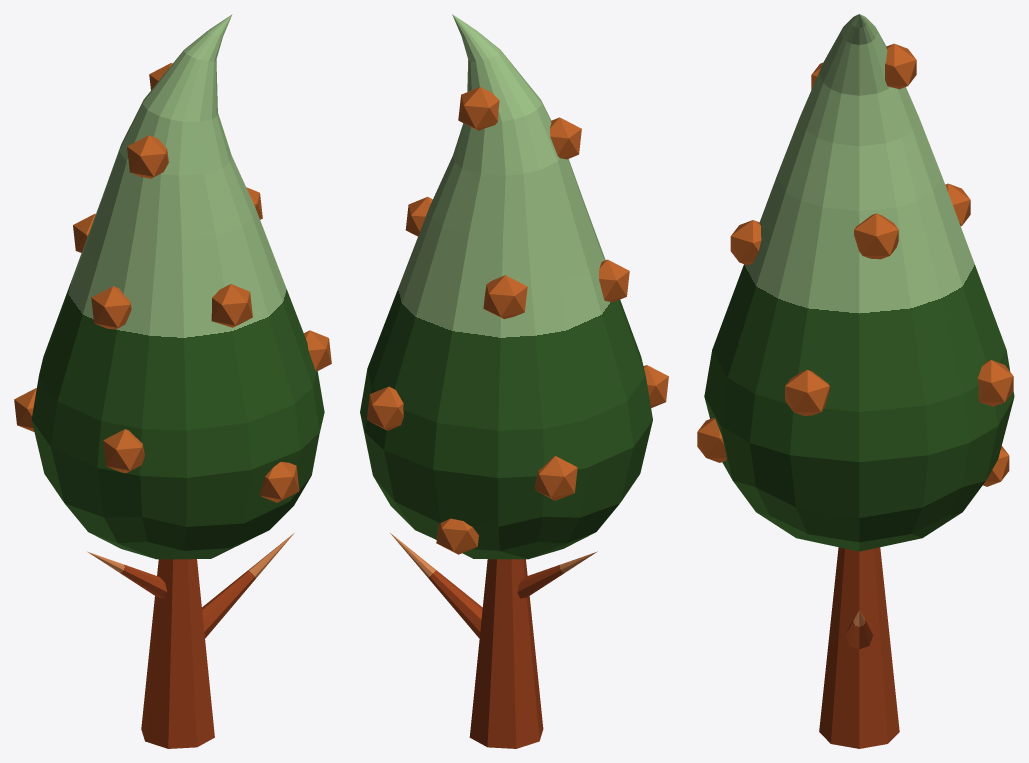
The model's file is FruityTree.glb.
3 views of the same model, side by side, from view 1: azimuth 30°, elevation 25°; view 2: azimuth 150°, elevation 25°; view 3: azimuth 270°, elevation 25° (orthographic). The views are drawn at different scales.
Parts seen in each view (by area): view 1: Tree.003; view 2: Tree.003; view 3: Tree.003.
Boxes of the visible parts, <box> form: Tree.003: <box>14,14,331,748</box>; Tree.003: <box>360,14,668,748</box>; Tree.003: <box>697,14,1014,748</box>.
Bounding box in the file's own units: 0.9013 × 2.39 × 0.9212.
Materials: 1 (1 with a texture image).
